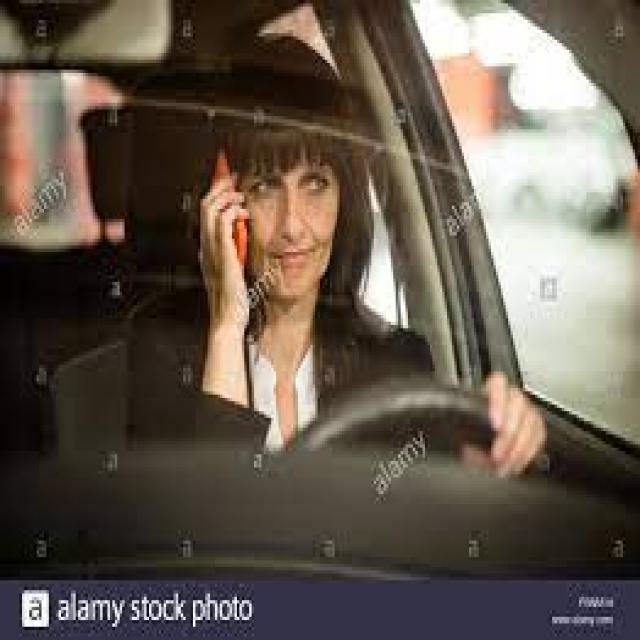Cellphone_calling: (183, 139, 264, 325)
